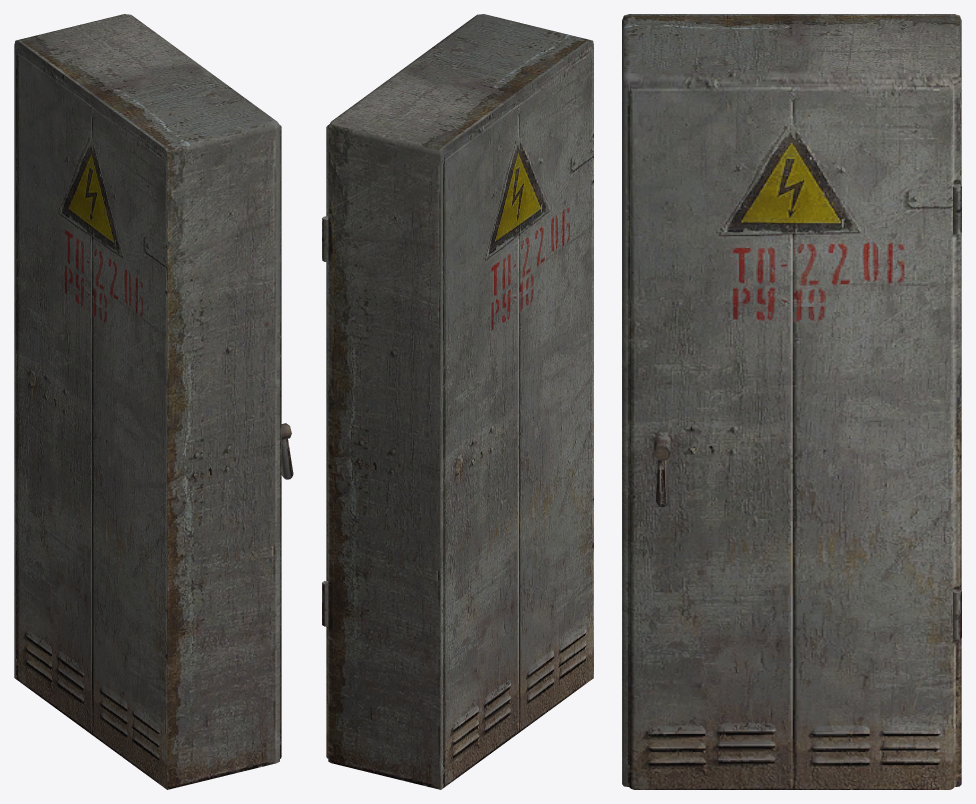
The model's file is Electrobox.fbx.
The picture shows the model from 3 angles, left to right: view 1: azimuth 30°, elevation 25°; view 2: azimuth 150°, elevation 25°; view 3: azimuth 270°, elevation 25°; orthographic projection. The views are drawn at different scales.
Visible parts, largest first — view 1: mesh_0.1401; view 2: mesh_0.1401; view 3: mesh_0.1401.
Part boxes in pixels (x1=…): mesh_0.1401: x1=14, y1=14, x2=293, y2=789; mesh_0.1401: x1=322, y1=14, x2=593, y2=789; mesh_0.1401: x1=622, y1=14, x2=961, y2=789.
Bounding box in the file's own units: 0.6161 × 2.63 × 1.14.
